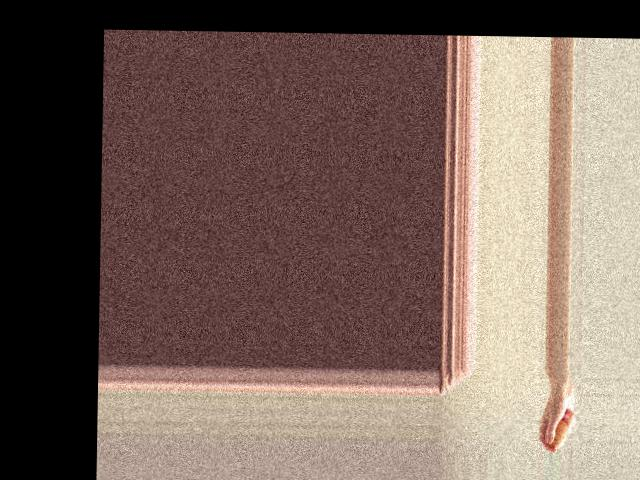egg: (547, 419, 569, 448)
